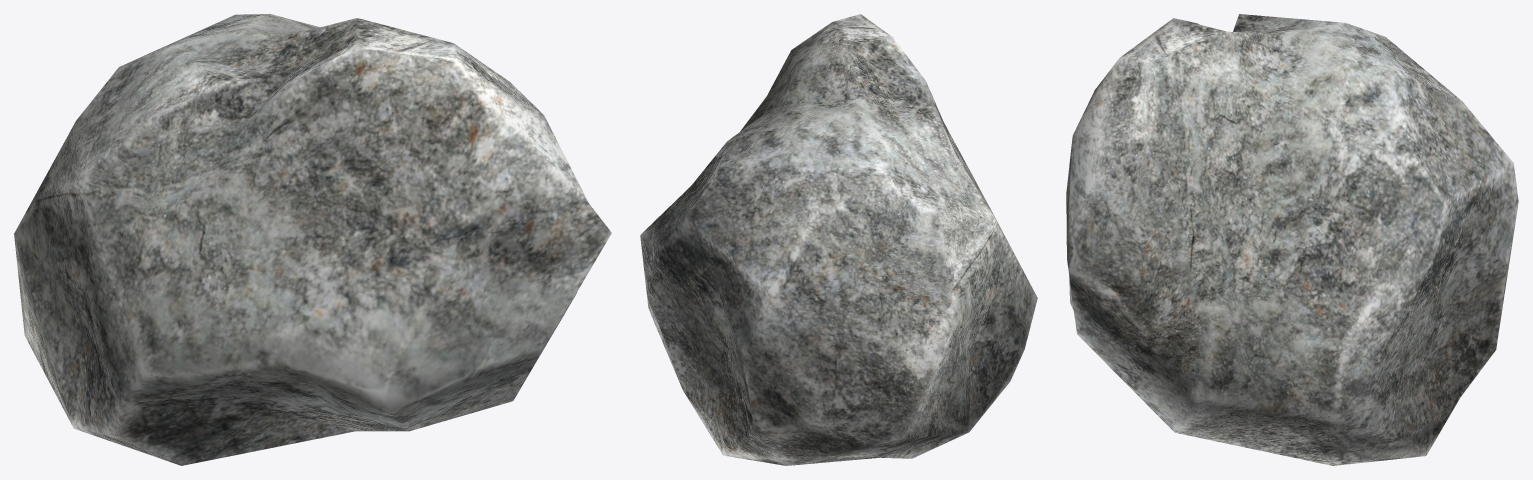
File: small_rock_2__low_poly.glb
3 renders of one model, left to right at view 1: azimuth 30°, elevation 25°; view 2: azimuth 150°, elevation 25°; view 3: azimuth 270°, elevation 25°, orthographic. The views are drawn at different scales.
Visible parts, largest first — view 1: Object_2; view 2: Object_2; view 3: Object_2.
Part boxes in pixels (box(x1,y1,x2,y2)): Object_2: box(14, 14, 611, 465); Object_2: box(640, 14, 1037, 465); Object_2: box(1066, 14, 1518, 465).
Size of the model in its own units: 2.42 by 2.38 by 2.41.
Materials: 1 (1 with a texture image).
